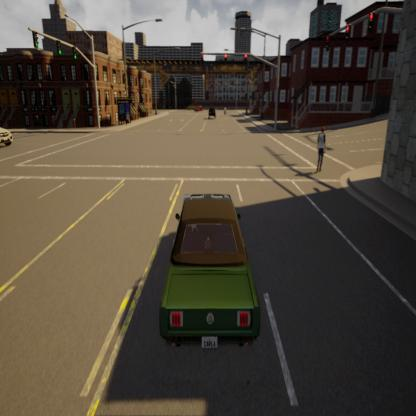Cars: (147, 180, 269, 366), (0, 110, 15, 151), (206, 103, 219, 121)
Pedestrian: (303, 119, 330, 174)
